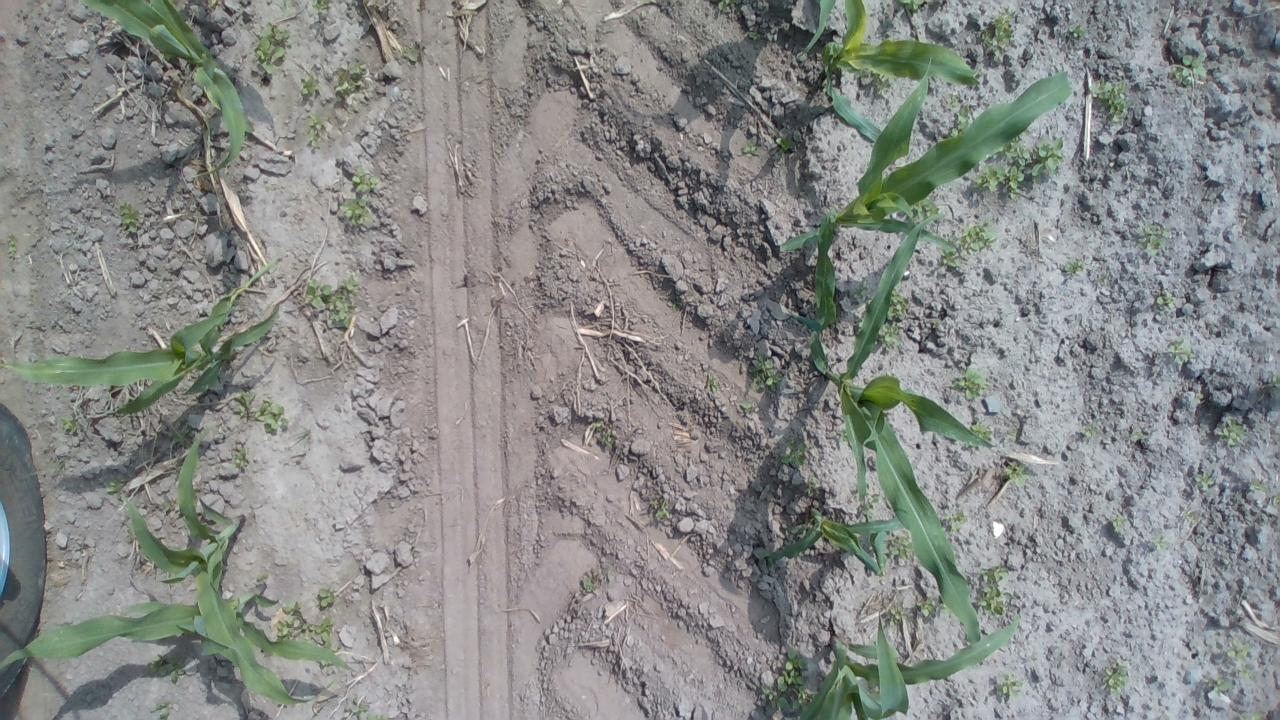Maize: (812, 213, 1002, 681), (757, 66, 1092, 302), (0, 248, 323, 444), (1, 581, 389, 720), (127, 426, 312, 717), (80, 0, 262, 190), (768, 602, 1044, 720), (768, 4, 992, 145), (740, 500, 993, 572)
Weeds: (304, 274, 358, 330), (272, 602, 339, 645), (248, 22, 295, 78), (761, 672, 828, 711), (1086, 75, 1135, 122), (974, 564, 1014, 620), (970, 12, 1019, 56), (740, 354, 791, 395), (970, 164, 1030, 195), (958, 214, 998, 260), (328, 60, 369, 102), (995, 131, 1039, 170), (148, 656, 198, 688), (348, 163, 386, 204), (252, 397, 288, 440), (771, 434, 816, 468), (1167, 50, 1206, 88), (945, 366, 988, 400), (1100, 660, 1138, 698), (332, 698, 396, 720), (1034, 138, 1070, 177), (944, 98, 974, 142), (121, 198, 151, 239), (1135, 219, 1169, 255), (1214, 414, 1248, 450), (995, 450, 1029, 486), (100, 471, 140, 500), (766, 130, 796, 166), (881, 288, 914, 320), (304, 116, 336, 148), (1167, 332, 1200, 363), (1149, 283, 1176, 320), (338, 196, 370, 226), (964, 417, 998, 444), (888, 534, 916, 566), (56, 414, 87, 442), (877, 324, 909, 351), (943, 241, 969, 274), (785, 650, 810, 684), (1066, 18, 1090, 52), (298, 71, 324, 102), (230, 390, 257, 419), (150, 698, 183, 720), (998, 674, 1022, 704), (944, 510, 970, 537), (228, 444, 254, 471), (652, 498, 676, 526), (310, 0, 340, 21), (802, 475, 828, 499), (1204, 673, 1235, 693), (1059, 256, 1088, 277), (1229, 639, 1252, 665), (918, 594, 941, 620), (582, 573, 604, 600), (592, 418, 612, 447), (1146, 532, 1172, 554), (701, 372, 721, 399), (316, 588, 340, 610), (887, 600, 907, 626), (733, 136, 760, 154), (1194, 468, 1216, 489), (1108, 513, 1130, 534), (731, 394, 750, 418), (1249, 477, 1273, 494), (1264, 373, 1280, 397), (1182, 510, 1204, 526), (1128, 431, 1148, 447), (1190, 388, 1210, 403), (1078, 424, 1098, 438), (1091, 272, 1108, 287), (256, 574, 276, 586), (1238, 666, 1251, 682), (1245, 711, 1267, 720), (160, 499, 173, 513)
